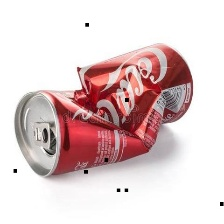can: (10, 38, 198, 180)
